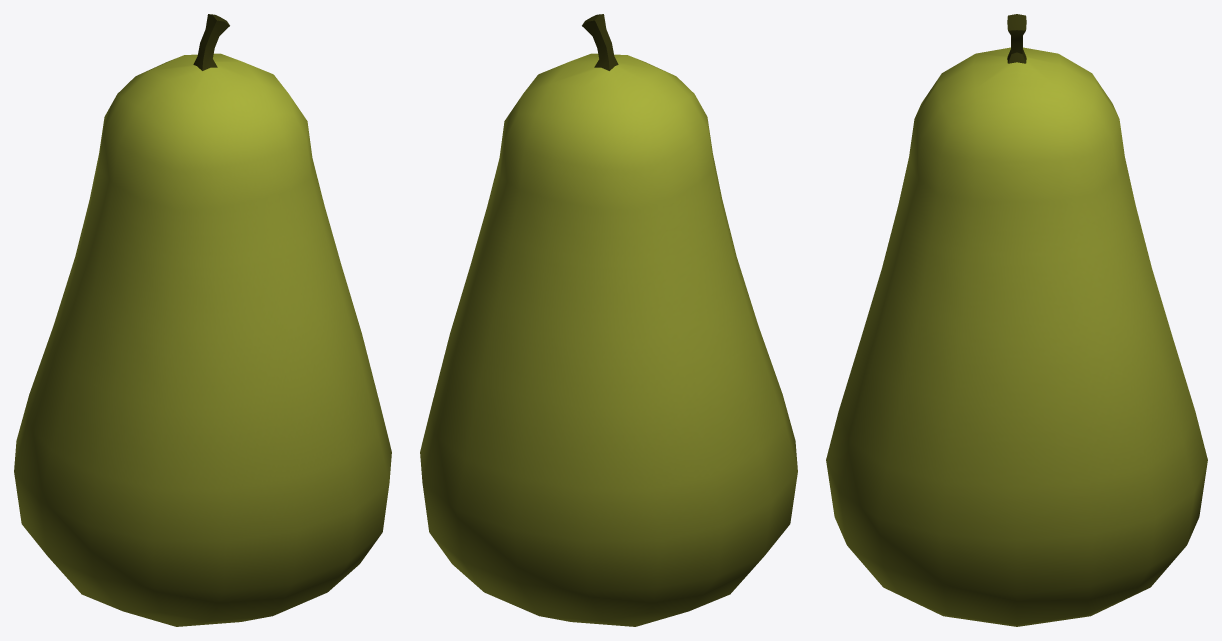
File: SM_Pear_V01.fbx
3 views of the same model, side by side, from view 1: azimuth 30°, elevation 25°; view 2: azimuth 150°, elevation 25°; view 3: azimuth 270°, elevation 25° (orthographic).
Parts seen in each view (by area): view 1: SM_Pear_V01; view 2: SM_Pear_V01; view 3: SM_Pear_V01.
Boxes of the visible parts, <box> form: SM_Pear_V01: <box>14,14,391,626</box>; SM_Pear_V01: <box>420,14,797,626</box>; SM_Pear_V01: <box>826,14,1207,626</box>.
Bounding box in the file's own units: 17.78 × 30.57 × 17.78.
